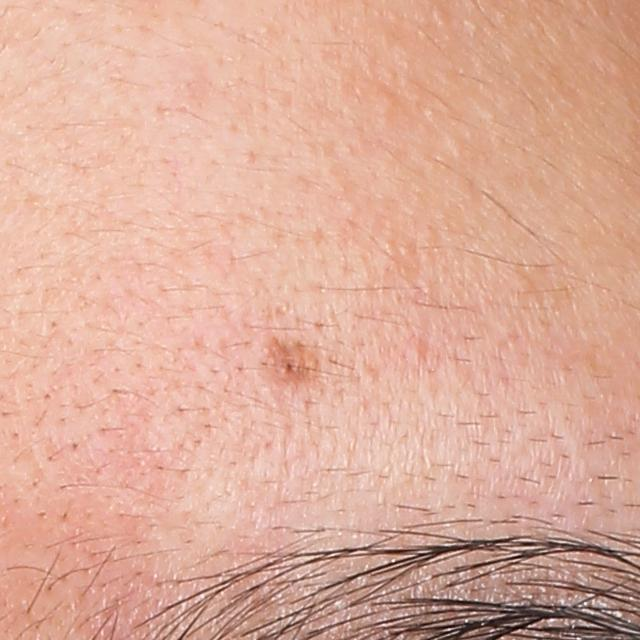nevus: (258, 333, 323, 392)
